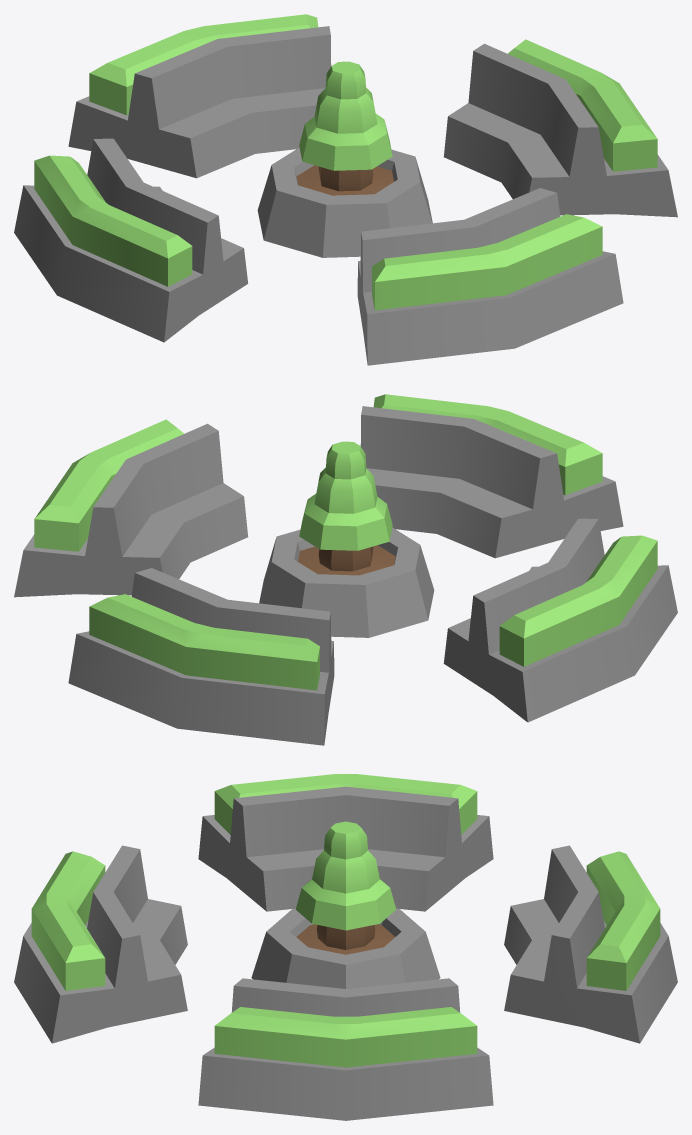
Rendered from DatingSimSeating.fbx.
3 views of the same model, one above another, from view 1: azimuth 30°, elevation 25°; view 2: azimuth 150°, elevation 25°; view 3: azimuth 270°, elevation 25° (orthographic).
Visible parts, largest first — view 1: Seating; view 2: Seating; view 3: Seating.
Boxes of the visible parts, x1,y1,x2,y2 form: Seating: (14, 14, 677, 365); Seating: (14, 394, 677, 745); Seating: (14, 774, 677, 1120).
Size of the model in its own units: 220 by 57.14 by 222.
